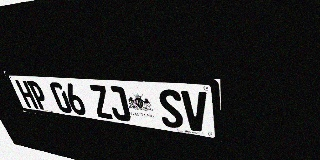0: (48, 82, 73, 114)
6: (62, 83, 88, 116)
H: (15, 80, 39, 109)
J: (105, 85, 132, 122)
P: (26, 81, 51, 111)
S: (157, 89, 184, 129)
V: (181, 90, 208, 133)
Z: (88, 84, 114, 119)
